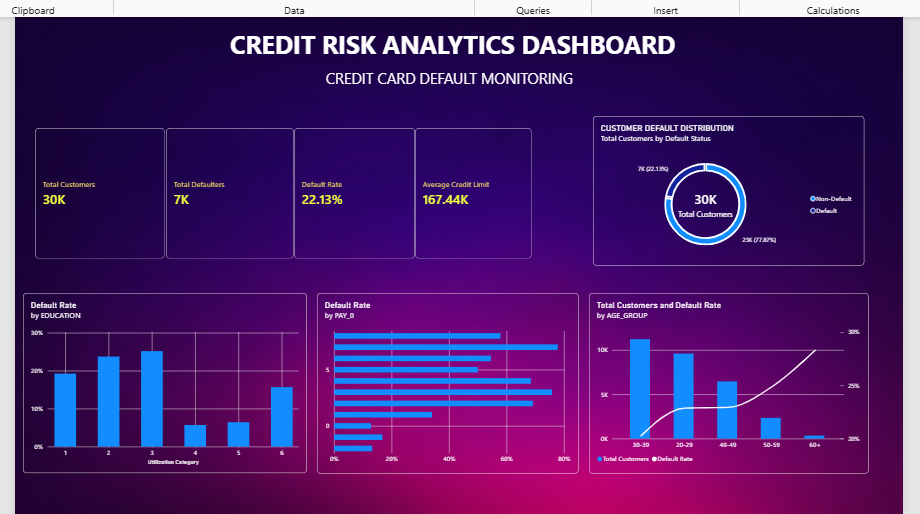

This screenshot's page, from the dashboard's own definition file:
{"tool":"powerbi","page":{"name":"Page 1","canvas":[1920,1080],"ordinal":0},"visuals":[{"type":"textbox","box":[17.3,43.2,1062.7,131.8],"z":0},{"type":"textbox","box":[464.4,21.6,978.5,88.6],"z":1},{"type":"textbox","box":[53,463.3,1063,150],"z":2},{"type":"textbox","box":[391,110.2,1125.4,64.8],"z":3},{"type":"donutChart","title":"CUSTOMER DEFAULT DISTRIBUTION","fields":{"Category":["CustomerData.Default Status"],"Y":["CustomerData.Total Customers"]},"box":[1248.5,213.8,585.8,323.1],"z":4},{"type":"clusteredColumnChart","fields":{"Category":["CustomerData.EDUCATION"],"Y":["CustomerData.Default Rate"]},"box":[17.3,596.2,613.4,388.8],"z":5},{"type":"clusteredBarChart","fields":{"Category":["CustomerData.PAY_0"],"Y":["CustomerData.Default Rate"]},"box":[652.3,596.2,564.7,389.5],"z":6},{"type":"lineStackedColumnComboChart","fields":{"Category":["CustomerData.AGE_GROUP"],"Y":["CustomerData.Total Customers"],"Y2":["CustomerData.Default Rate"]},"box":[1239.8,596.2,603.9,389.5],"z":7},{"type":"cardVisual","fields":{"Data":["CustomerData.Total Customers"]},"box":[43.2,239.8,280.8,283],"z":8},{"type":"cardVisual","fields":{"Data":["CustomerData.Total Defaulters"]},"box":[326.2,239.8,276.5,283],"z":9},{"type":"cardVisual","fields":{"Data":["CustomerData.Default Rate"]},"box":[602.6,239.8,261.4,283],"z":10},{"type":"cardVisual","fields":{"Data":["CustomerData.Average Credit Limit"]},"box":[864,239.8,252.7,283],"z":11}]}

Visuals, with their boxes on the page's 1920x1080 design canvas (x1, y1, x2, y2). These are canvas units, not pixel positions in the 920x514 screenshot, which may show the page scaled, cropped or inside an application window:
textbox: l=17, t=43, r=1080, b=175
textbox: l=464, t=22, r=1443, b=110
textbox: l=53, t=463, r=1116, b=613
textbox: l=391, t=110, r=1516, b=175
"CUSTOMER DEFAULT DISTRIBUTION" donutChart: l=1248, t=214, r=1834, b=537
clusteredColumnChart - CustomerData.EDUCATION x CustomerData.Default Rate: l=17, t=596, r=631, b=985
clusteredBarChart - CustomerData.PAY_0 x CustomerData.Default Rate: l=652, t=596, r=1217, b=986
lineStackedColumnComboChart - CustomerData.AGE_GROUP x CustomerData.Total Customers: l=1240, t=596, r=1844, b=986
cardVisual - CustomerData.Total Customers: l=43, t=240, r=324, b=523
cardVisual - CustomerData.Total Defaulters: l=326, t=240, r=603, b=523
cardVisual - CustomerData.Default Rate: l=603, t=240, r=864, b=523
cardVisual - CustomerData.Average Credit Limit: l=864, t=240, r=1117, b=523
